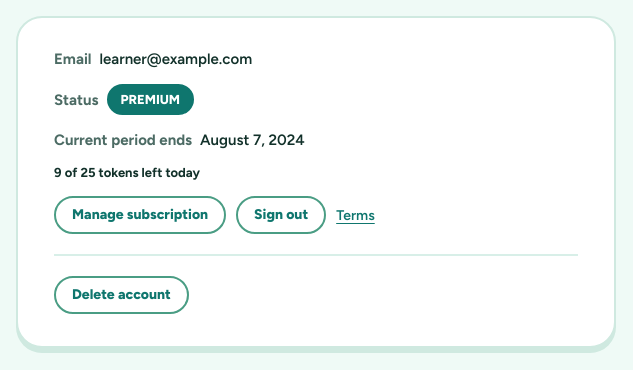
Test: AccountPageComponent › marks "Manage subscription" busy, with a label that names the work, while its request runs
Click the button "Manage subscription" at (140, 215), box [54, 196, 226, 234]
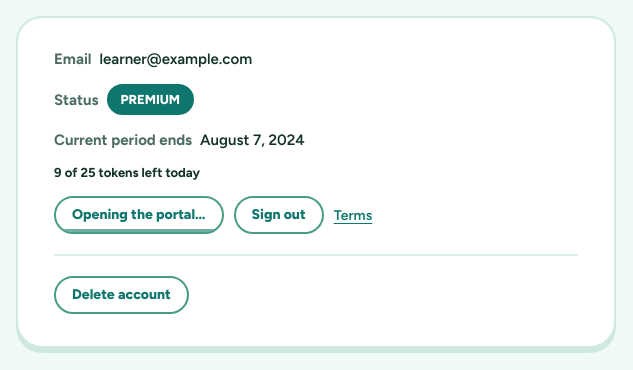
Expected: the button "Opening the portal…" is shown, [54, 196, 224, 234]
Expected: the button "Opening the portal…" is disabled, [54, 196, 224, 234]
